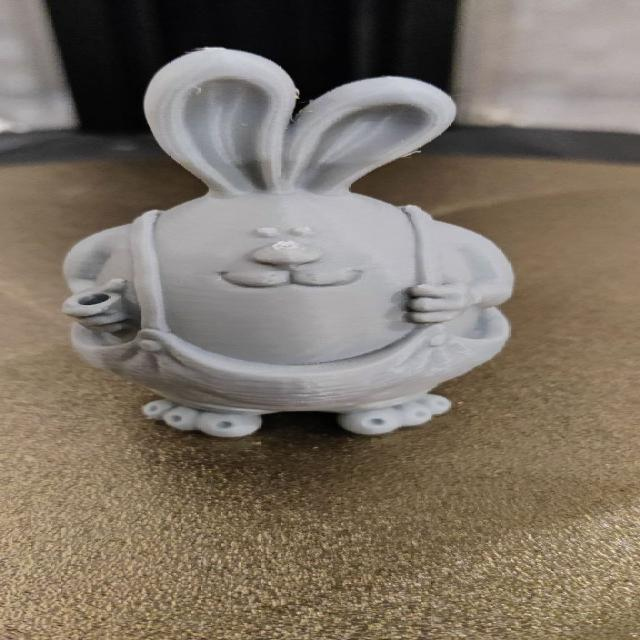Without deffect: (42, 33, 544, 445)
